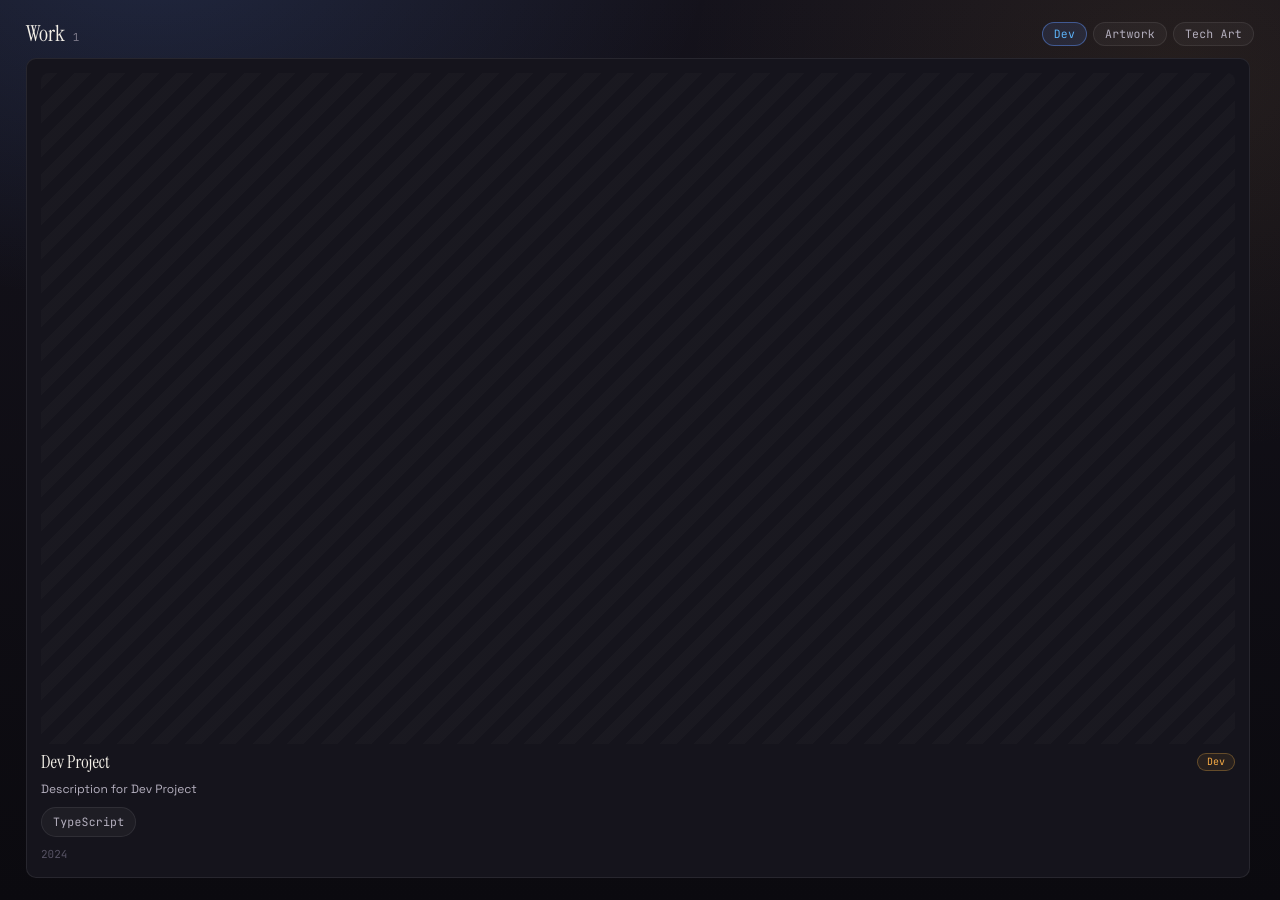
DashboardWorkGrid › category filter tabs › filters to only Artwork projects when the Artwork tab is selected
Step 1. Click the button "Artwork" → [1130, 34], box [1093, 22, 1167, 46]
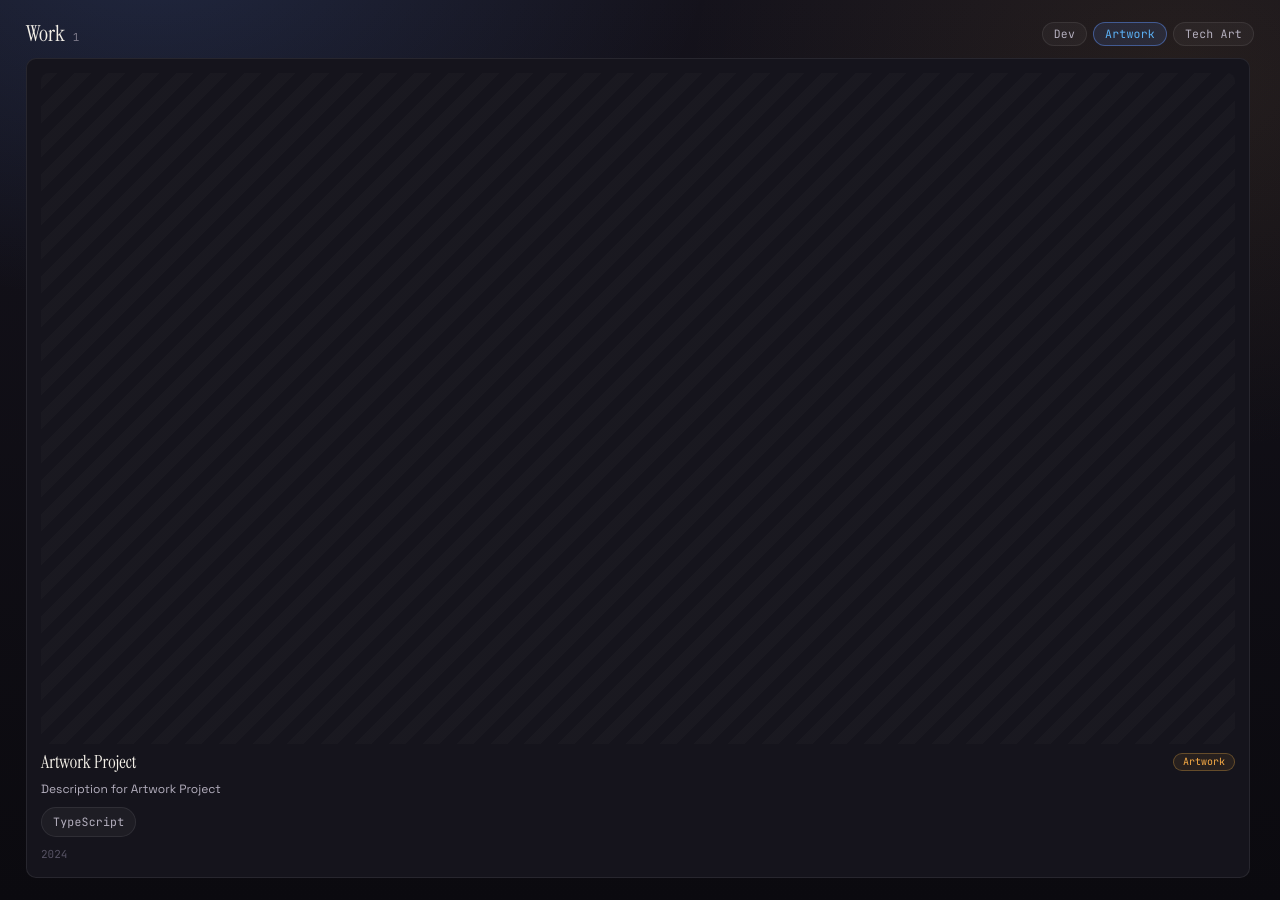
Expected: the heading "Artwork Project" is shown, [41, 753, 136, 771]
Expected: the heading "Dev Project" is gone
